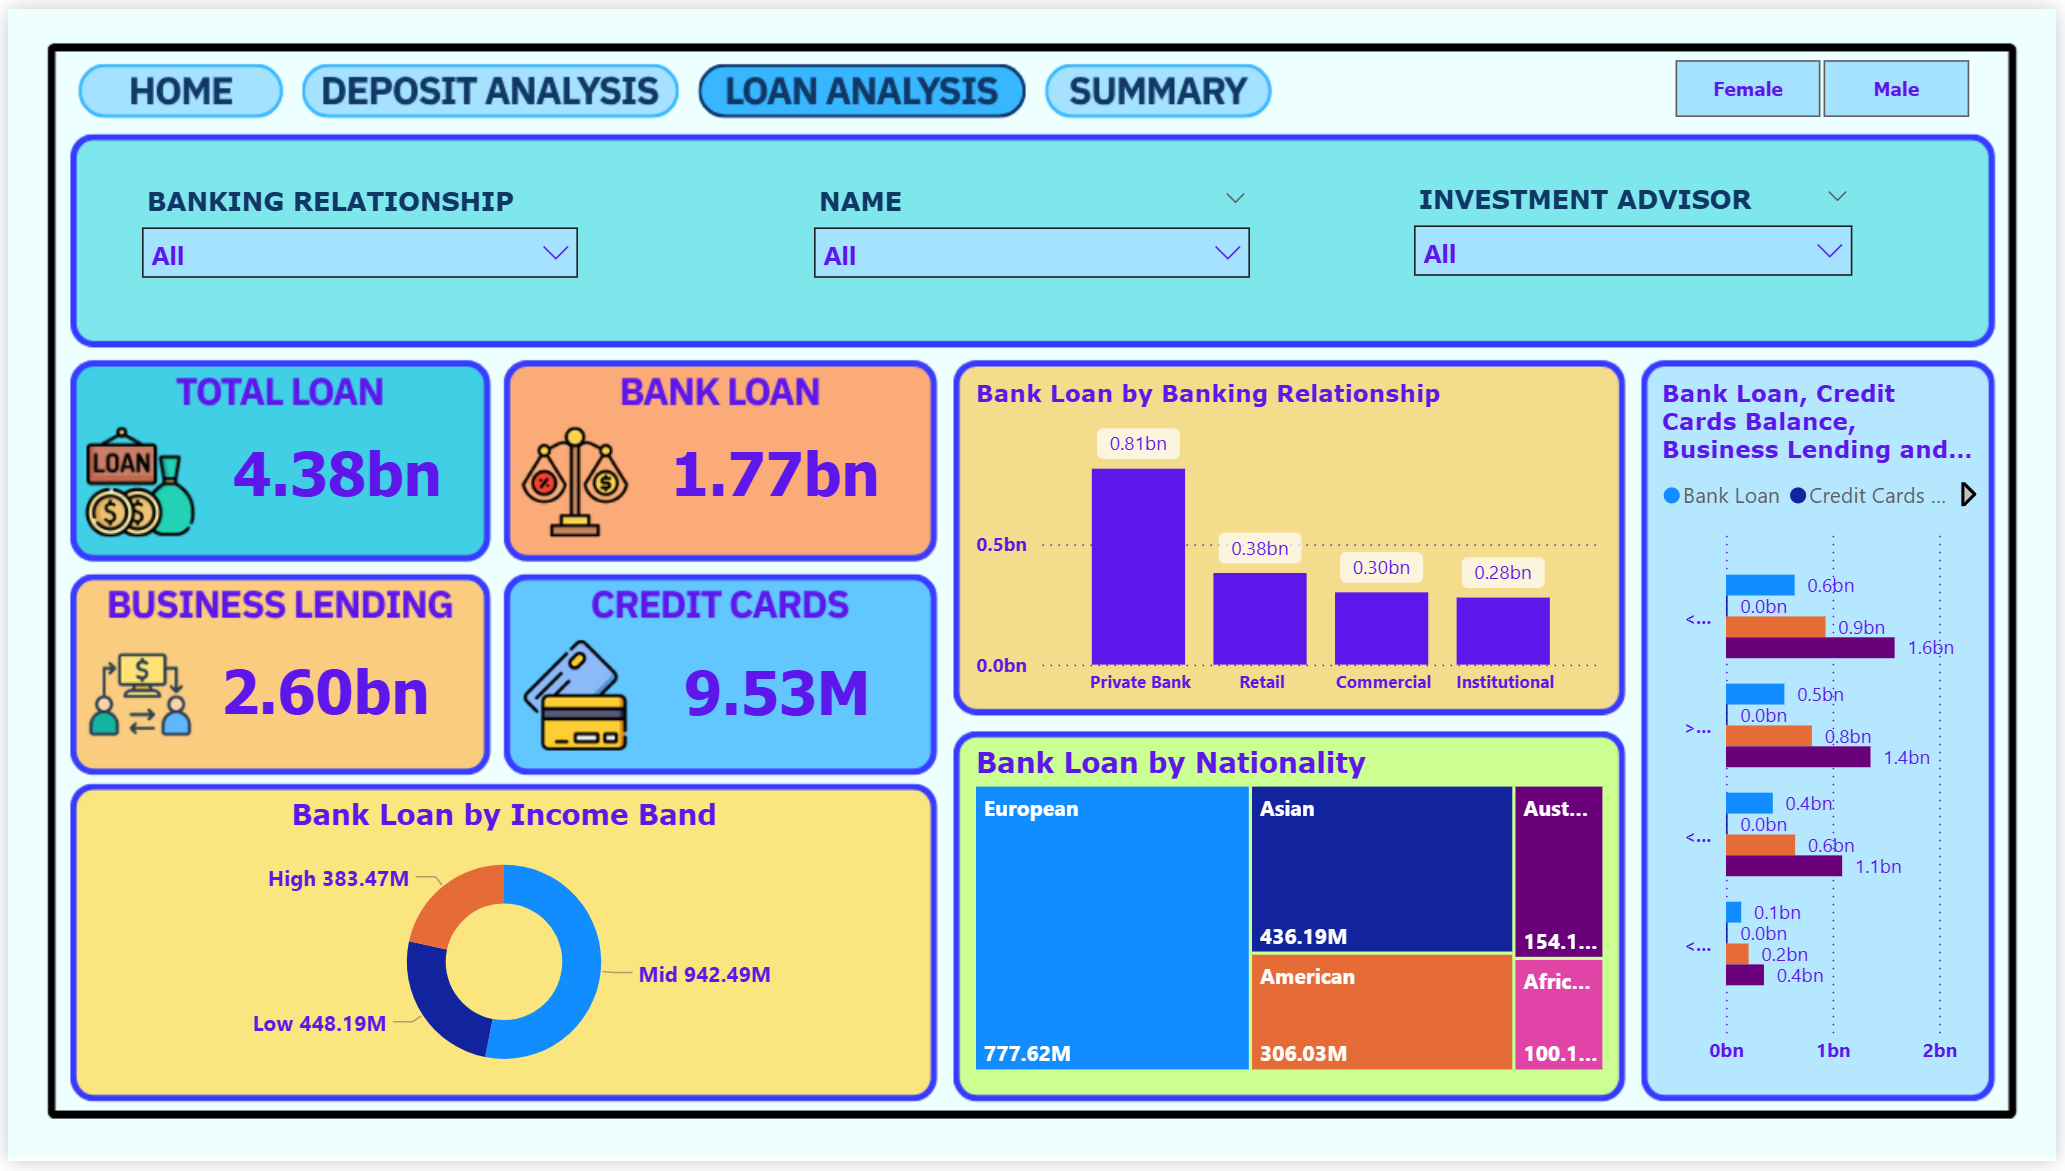

The dashboard page shown, as its layout file describes it:
{"tool":"powerbi","page":{"name":"Loan Analysis","canvas":[1280,720],"ordinal":2},"visuals":[{"type":"card","fields":{"Values":[" Measures.Total Loan"]},"box":[124.5,243.6,161.8,91.8],"z":0},{"type":"card","fields":{"Values":[" Measures.Bank Loan"]},"box":[392.5,245,173.8,90],"z":1000},{"type":"card","fields":{"Values":[" Measures.Credit Cards Balance"]},"box":[395,382.5,171.2,88.8],"z":2000},{"type":"card","fields":{"Values":[" Measures.Business Lending"]},"box":[117.5,382.5,161.2,87.5],"z":3000},{"type":"donutChart","fields":{"Category":["bank_analysis customer.Income Band"],"Y":[" Measures.Bank Loan"]},"box":[45,492.5,530,185],"z":4000},{"type":"clusteredBarChart","fields":{"Y":[" Measures.Bank Loan"," Measures.Credit Cards Balance"," Measures.Business Lending"," Measures.Total Loan"],"Category":["bank_analysis customer.Engagement Timeframe"]},"box":[1028.8,230.8,206.5,437.3],"z":5000},{"type":"treemap","fields":{"Group":["bank_analysis customer.Nationality"],"Values":[" Measures.Bank Loan"]},"box":[600.5,460.2,401.6,207.8],"z":6000},{"type":"lineClusteredColumnComboChart","fields":{"Category":["Banking Relationship.Banking Relationship"],"Y":[" Measures.Bank Loan"]},"box":[600.5,230.8,401.6,206.5],"z":7000},{"type":"actionButton","box":[649.1,34.5,140,32.7],"z":8000},{"type":"actionButton","box":[43.8,36.2,126.2,32.5],"z":9000},{"type":"actionButton","box":[434.4,36.7,201.1,32.2],"z":10000},{"type":"actionButton","box":[185.6,36.9,233.1,30.6],"z":11000},{"type":"slicer","fields":{"Values":["bank_analysis customer.Gender"]},"box":[1016.1,25.5,233.3,49.7],"z":12000},{"type":"slicer","fields":{"Values":["Investment Advisor.Investment Advisor"]},"box":[868.8,103.8,293.8,76.2],"z":13000},{"type":"slicer","fields":{"Values":["Banking Relationship.Banking Relationship"]},"box":[73.8,105,292.5,76.2],"z":14000},{"type":"slicer","fields":{"Values":["bank_analysis customer.Name"]},"box":[493.8,105,292.5,75],"z":15000}]}

Visuals, with their boxes in screenshot pixels (x1, y1, x2, y2), scaled from the page's 1280x720 canvas onto the 2065x1171 screenshot:
card -  Measures.Total Loan: {"x1": 201, "y1": 396, "x2": 462, "y2": 545}
card -  Measures.Bank Loan: {"x1": 633, "y1": 398, "x2": 914, "y2": 545}
card -  Measures.Credit Cards Balance: {"x1": 637, "y1": 622, "x2": 913, "y2": 767}
card -  Measures.Business Lending: {"x1": 190, "y1": 622, "x2": 450, "y2": 764}
donutChart - bank_analysis customer.Income Band x  Measures.Bank Loan: {"x1": 73, "y1": 801, "x2": 928, "y2": 1102}
clusteredBarChart -  Measures.Bank Loan x  Measures.Credit Cards Balance: {"x1": 1660, "y1": 375, "x2": 1993, "y2": 1087}
treemap - bank_analysis customer.Nationality x  Measures.Bank Loan: {"x1": 969, "y1": 748, "x2": 1617, "y2": 1086}
lineClusteredColumnComboChart - Banking Relationship.Banking Relationship x  Measures.Bank Loan: {"x1": 969, "y1": 375, "x2": 1617, "y2": 711}
actionButton: {"x1": 1047, "y1": 56, "x2": 1273, "y2": 109}
actionButton: {"x1": 71, "y1": 59, "x2": 274, "y2": 112}
actionButton: {"x1": 701, "y1": 60, "x2": 1025, "y2": 112}
actionButton: {"x1": 299, "y1": 60, "x2": 675, "y2": 110}
slicer - bank_analysis customer.Gender: {"x1": 1639, "y1": 41, "x2": 2016, "y2": 122}
slicer - Investment Advisor.Investment Advisor: {"x1": 1402, "y1": 169, "x2": 1876, "y2": 293}
slicer - Banking Relationship.Banking Relationship: {"x1": 119, "y1": 171, "x2": 591, "y2": 295}
slicer - bank_analysis customer.Name: {"x1": 797, "y1": 171, "x2": 1269, "y2": 293}
